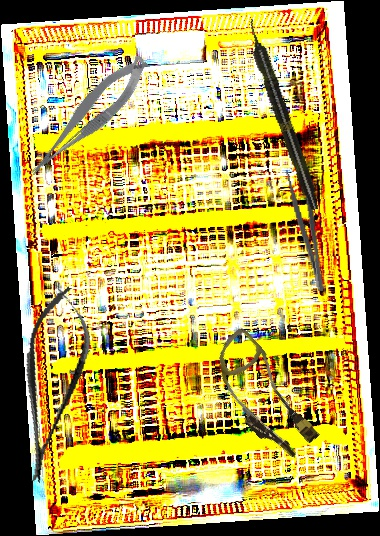Cannula: (195, 325, 332, 467)
Dressing Forceps: (284, 167, 328, 294)
Handpiece: (241, 16, 324, 213)
Micro Scissor: (1, 281, 102, 488), (14, 50, 161, 182)
